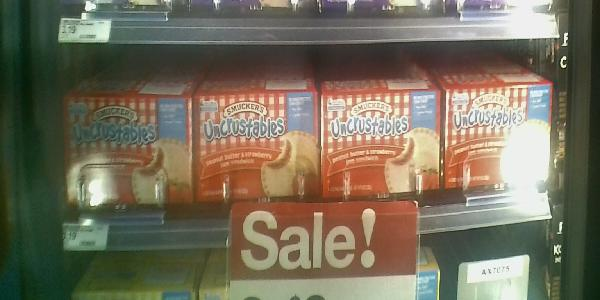icecream: (63, 88, 197, 213), (192, 89, 325, 214), (321, 87, 448, 198), (448, 81, 554, 193)
